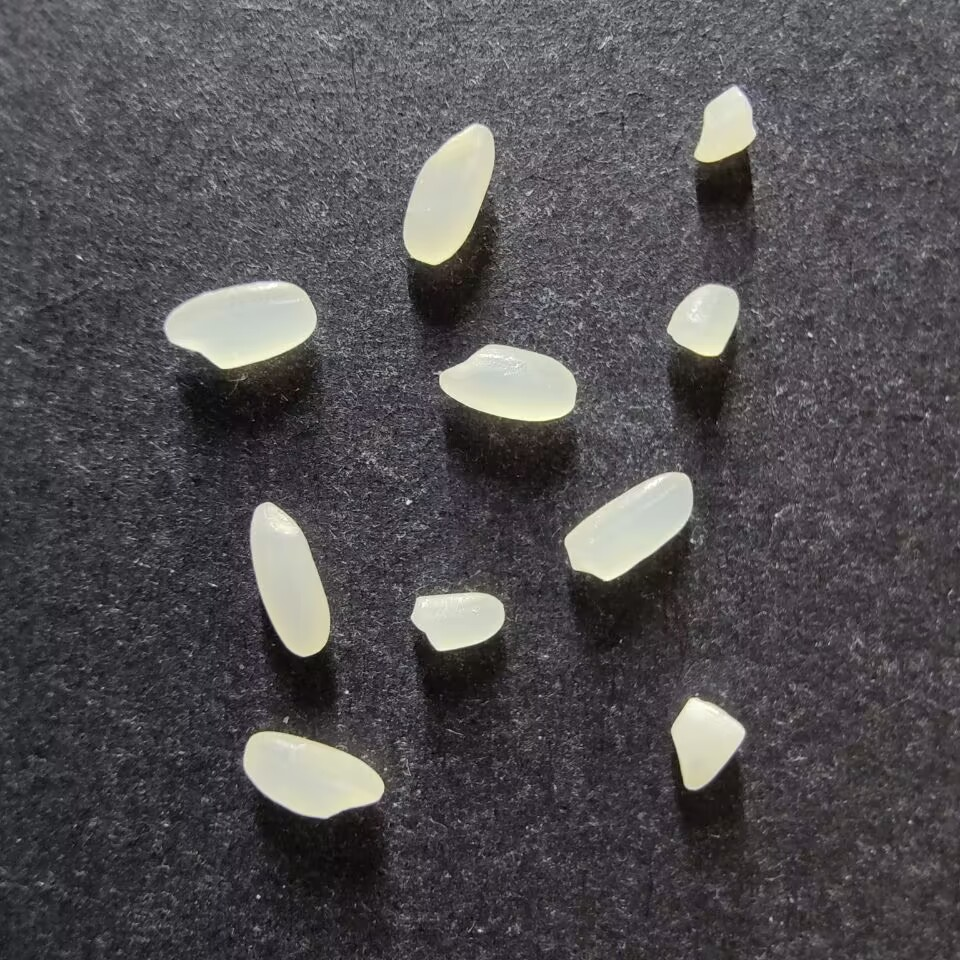broken: (669, 697, 745, 791), (409, 592, 505, 652), (665, 283, 739, 357), (692, 85, 758, 163)
rice: (563, 470, 694, 582), (163, 281, 316, 370), (402, 123, 495, 265), (248, 501, 331, 657), (242, 731, 385, 820), (437, 344, 578, 422)
